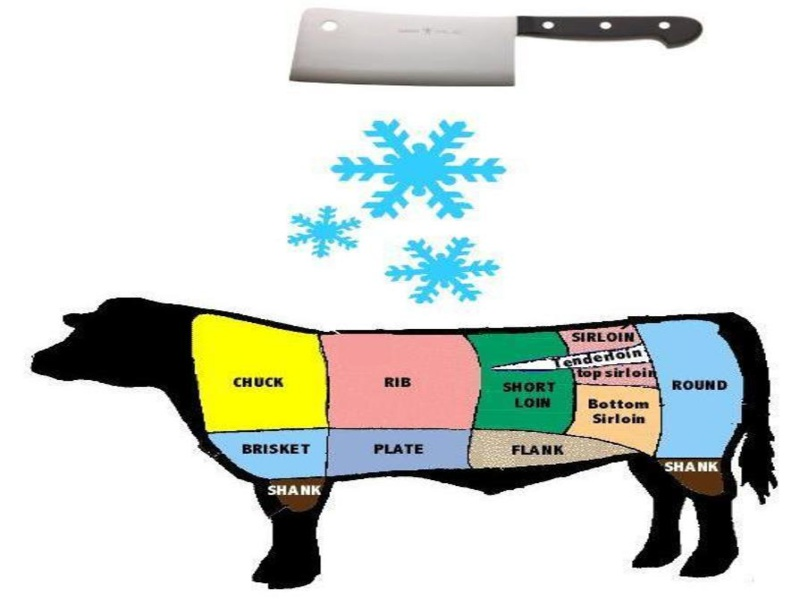knife: (290, 5, 715, 93)
